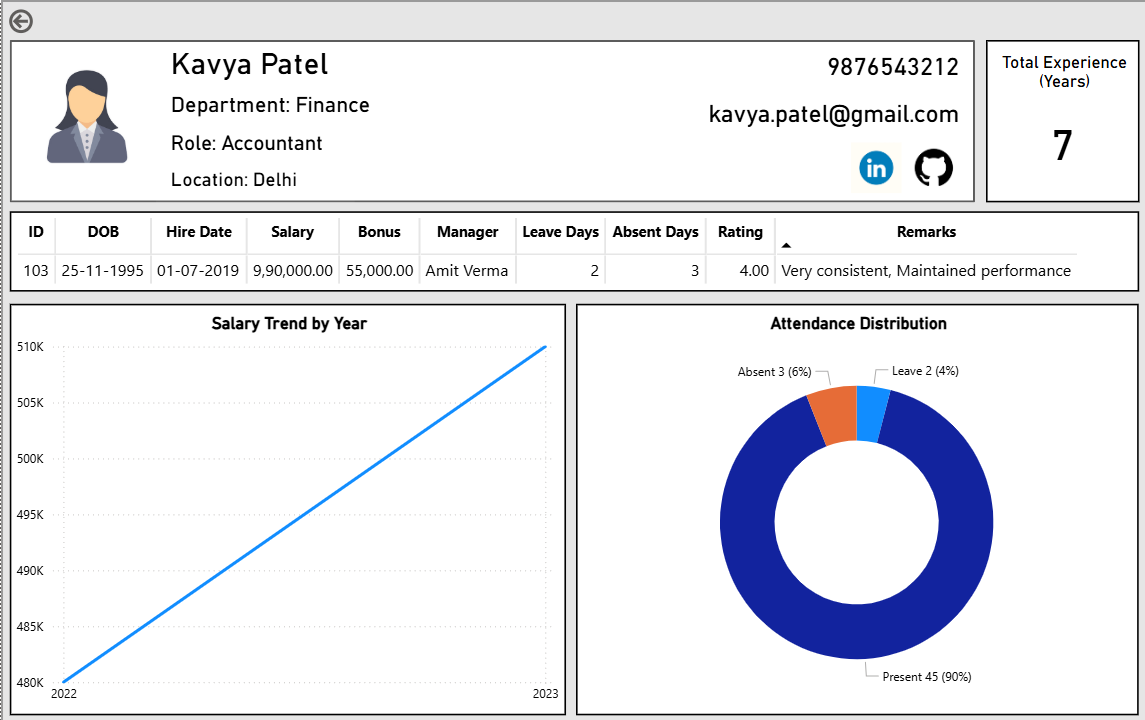

The page's visual inventory and layout, read from the dashboard file:
{"tool":"powerbi","page":{"name":"Emp 1","canvas":[1144,720],"ordinal":1},"visuals":[{"type":"shape","box":[0,0,1144.4,720.3],"z":0},{"type":"shape","box":[8.9,39.5,960.6,161.8],"z":1000},{"type":"image","box":[14,48.4,144,144],"z":2000},{"type":"advanceCardE03760C5AB684758B56AA29F9E6C257B","title":"Name Card","fields":{"mainMeasure":["Min(employees.full_name)"]},"box":[153.6,38.6,269.3,50.2],"z":3000},{"type":"advanceCardE03760C5AB684758B56AA29F9E6C257B","title":"Department Card","fields":{"mainMeasure":["departments.Department Label"]},"box":[154.1,84.1,268.8,39.5],"z":4000},{"type":"advanceCardE03760C5AB684758B56AA29F9E6C257B","title":"Location Card","fields":{"mainMeasure":["employees.Location Label"]},"box":[154.3,155,197.8,46],"z":5000},{"type":"advanceCardE03760C5AB684758B56AA29F9E6C257B","title":"Job Card","fields":{"mainMeasure":["employees.Role Label"]},"box":[153.6,119.4,217.5,45.6],"z":6000},{"type":"advanceCardE03760C5AB684758B56AA29F9E6C257B","title":"Phone Card","fields":{"mainMeasure":["Min(employees.phone)"]},"box":[759.1,47.8,209.9,38],"z":7000},{"type":"advanceCardE03760C5AB684758B56AA29F9E6C257B","fields":{"mainMeasure":["Min(employees.email)"]},"box":[635.9,94.9,333.2,38],"z":8000},{"type":"image","box":[903.6,142.1,50.2,50.2],"z":9000},{"type":"image","box":[845.8,142.1,50.2,50.2],"z":10000},{"type":"advanceCardE03760C5AB684758B56AA29F9E6C257B","title":"Total Experience (Years)","fields":{"mainMeasure":["employees.totle_experience"]},"box":[980.2,39.3,153,161.7],"z":11000},{"type":"actionButton","box":[3.7,5,85.8,32.3],"z":12000},{"type":"tableEx","fields":{"Values":["employees.emp_id","employees.dob","employees.hire_date","Sum(salaries.salary_amount)","Sum(salaries.bonus)","departments.manager_name","Sum(attendance.leave_days)","Sum(attendance.absent_days)","Avg(performance.rating)","performance.concate_remarks"]},"box":[8.9,210.2,1123.6,80.3],"z":13000},{"type":"lineChart","title":"Salary Trend by Year","fields":{"Y":["Sum(salaries.salary_amount)"],"Category":["salaries.salary_year"]},"box":[8.7,302.3,553.6,409.3],"z":14000},{"type":"donutChart","title":"Attendance Distribution","fields":{"Y":["Sum(attendance.leave_days)","Sum(attendance.present_days)","Sum(attendance.absent_days)"]},"box":[572.2,302.3,559.8,409.3],"z":15000}]}

Visuals, with their boxes on the page's 1144x720 design canvas (x1, y1, x2, y2). These are canvas units, not pixel positions in the 1145x720 screenshot, which may show the page scaled, cropped or inside an application window:
shape: detection(0, 0, 1144, 720)
shape: detection(9, 40, 970, 201)
image: detection(14, 48, 158, 192)
"Name Card" advanceCardE03760C5AB684758B56AA29F9E6C257B: detection(154, 39, 423, 89)
"Department Card" advanceCardE03760C5AB684758B56AA29F9E6C257B: detection(154, 84, 423, 124)
"Location Card" advanceCardE03760C5AB684758B56AA29F9E6C257B: detection(154, 155, 352, 201)
"Job Card" advanceCardE03760C5AB684758B56AA29F9E6C257B: detection(154, 119, 371, 165)
"Phone Card" advanceCardE03760C5AB684758B56AA29F9E6C257B: detection(759, 48, 969, 86)
advanceCardE03760C5AB684758B56AA29F9E6C257B - Min(employees.email): detection(636, 95, 969, 133)
image: detection(904, 142, 954, 192)
image: detection(846, 142, 896, 192)
"Total Experience (Years)" advanceCardE03760C5AB684758B56AA29F9E6C257B: detection(980, 39, 1133, 201)
actionButton: detection(4, 5, 90, 37)
tableEx - employees.emp_id x employees.dob: detection(9, 210, 1132, 290)
"Salary Trend by Year" lineChart: detection(9, 302, 562, 712)
"Attendance Distribution" donutChart: detection(572, 302, 1132, 712)
